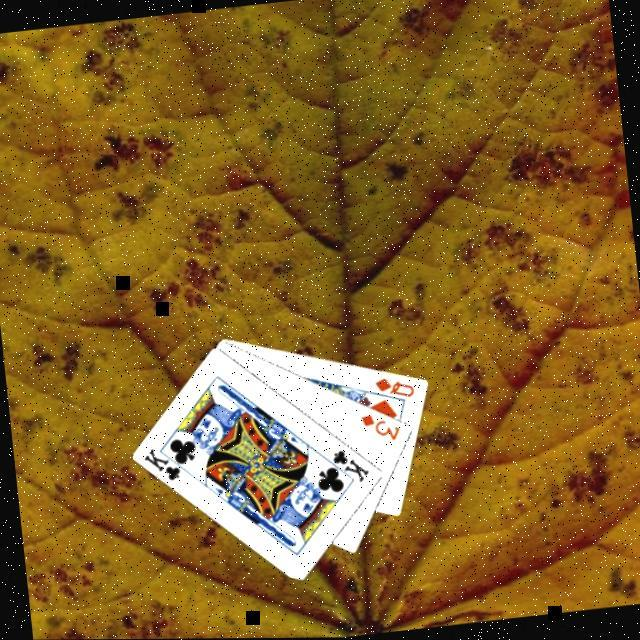3D: (355, 406, 402, 445)
KC: (319, 442, 372, 487), (138, 439, 191, 484)
QD: (369, 370, 416, 402)
